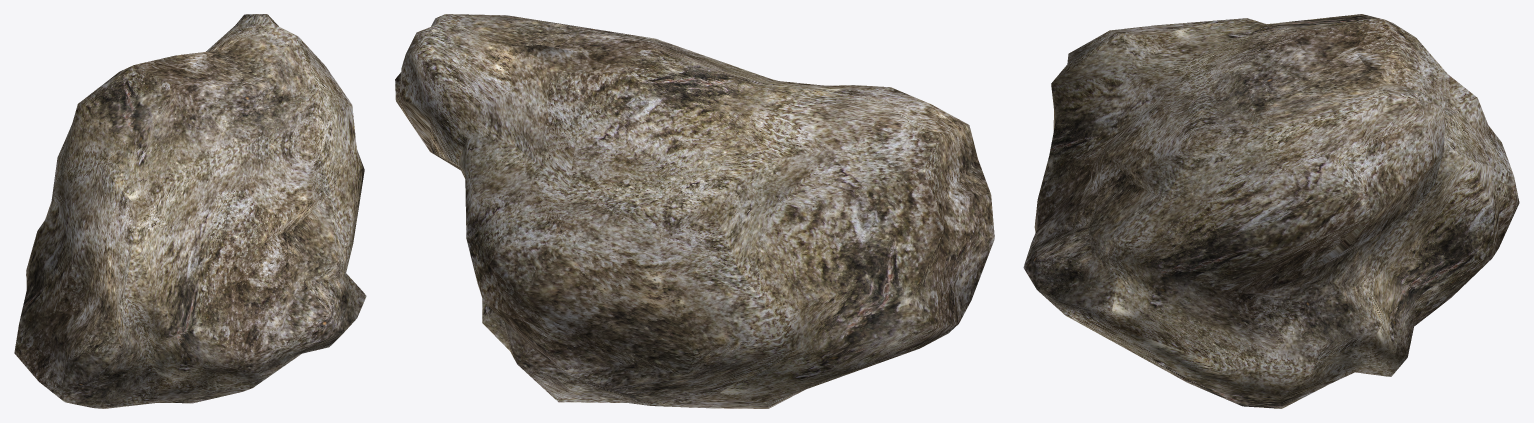
Rendered from Asteroid_11_L2.FBX.
3 renders of one model, left to right at view 1: azimuth 30°, elevation 25°; view 2: azimuth 150°, elevation 25°; view 3: azimuth 270°, elevation 25°, orthographic. The views are drawn at different scales.
Parts seen in each view (by area): view 1: rock; view 2: rock; view 3: rock.
Part boxes in pixels (<box>): rock: <box>14,14,366,408</box>; rock: <box>395,14,994,408</box>; rock: <box>1023,14,1519,408</box>.
Size of the model in its own units: 2.42 by 1.86 by 2.29.
